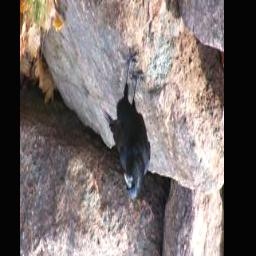Crow: (99, 46, 151, 207)
